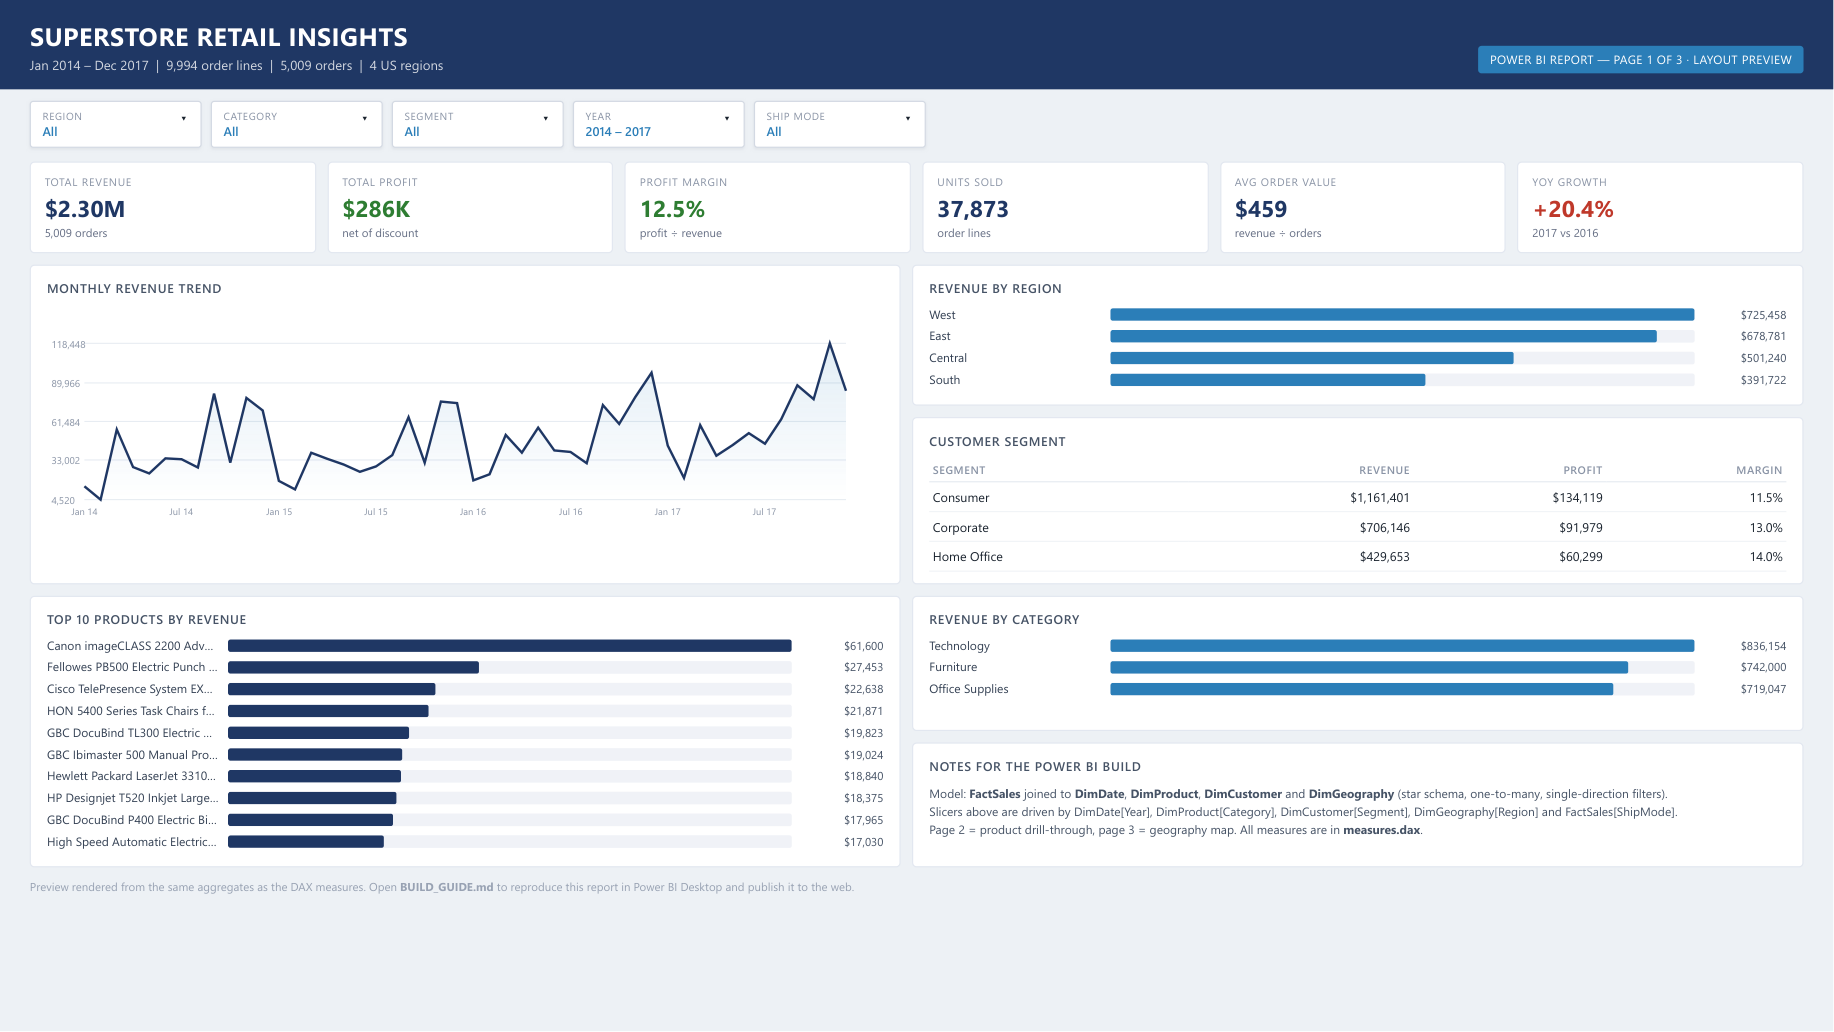

The dashboard page shown, as its layout file describes it:
{"tool":"powerbi","page":{"name":"Overview","canvas":[1280,720],"ordinal":0},"visuals":[{"type":"cardVisual","fields":{"Data":["_Measures.Report Title"]},"box":[8,4,1264,44],"z":0},{"type":"cardVisual","fields":{"Data":["_Measures.Total Revenue"]},"box":[8,52,200,62],"z":0},{"type":"cardVisual","fields":{"Data":["_Measures.Total Profit"]},"box":[220,52,200,62],"z":0},{"type":"cardVisual","fields":{"Data":["_Measures.Profit Margin"]},"box":[432,52,200,62],"z":0},{"type":"cardVisual","fields":{"Data":["_Measures.Units Sold"]},"box":[644,52,200,62],"z":0},{"type":"cardVisual","fields":{"Data":["_Measures.Average Order Value"]},"box":[856,52,200,62],"z":0},{"type":"cardVisual","fields":{"Data":["_Measures.YoY Growth Last Year"]},"box":[1068,52,200,62],"z":0},{"type":"lineChart","fields":{"Category":["DimDate.YearMonth"],"Y":["_Measures.Total Revenue"]},"box":[8,120,620,250],"z":0},{"type":"barChart","fields":{"Category":["DimGeography.Region"],"Y":["_Measures.Total Revenue"]},"box":[636,120,636,250],"z":0},{"type":"barChart","fields":{"Category":["TopProducts.ProductName"],"Y":["_Measures.Top Product Revenue"]},"box":[8,376,620,200],"z":0},{"type":"donutChart","fields":{"Category":["DimProduct.Category"],"Y":["_Measures.Total Revenue"]},"box":[636,376,300,200],"z":0},{"type":"tableEx","fields":{"Values":["DimCustomer.Segment","_Measures.Total Revenue","_Measures.Total Profit","_Measures.Profit Margin"]},"box":[944,376,328,200],"z":0},{"type":"slicer","fields":{"Values":["DimGeography.Region"]},"box":[8,582,248,128],"z":0},{"type":"slicer","fields":{"Values":["DimProduct.Category"]},"box":[260,582,248,128],"z":0},{"type":"slicer","fields":{"Values":["DimCustomer.Segment"]},"box":[512,582,248,128],"z":0},{"type":"slicer","fields":{"Values":["DimDate.Year"]},"box":[764,582,248,128],"z":0},{"type":"slicer","fields":{"Values":["FactSales.ShipMode"]},"box":[1016,582,248,128],"z":0}]}

Visuals, with their boxes in screenshot pixels (x1, y1, x2, y2), scaled from the page's 1280x720 canvas onto the 1834x1032 screenshot:
cardVisual - _Measures.Report Title: left=11, top=6, right=1823, bottom=69
cardVisual - _Measures.Total Revenue: left=11, top=75, right=298, bottom=163
cardVisual - _Measures.Total Profit: left=315, top=75, right=602, bottom=163
cardVisual - _Measures.Profit Margin: left=619, top=75, right=906, bottom=163
cardVisual - _Measures.Units Sold: left=923, top=75, right=1209, bottom=163
cardVisual - _Measures.Average Order Value: left=1226, top=75, right=1513, bottom=163
cardVisual - _Measures.YoY Growth Last Year: left=1530, top=75, right=1817, bottom=163
lineChart - DimDate.YearMonth x _Measures.Total Revenue: left=11, top=172, right=900, bottom=530
barChart - DimGeography.Region x _Measures.Total Revenue: left=911, top=172, right=1823, bottom=530
barChart - TopProducts.ProductName x _Measures.Top Product Revenue: left=11, top=539, right=900, bottom=826
donutChart - DimProduct.Category x _Measures.Total Revenue: left=911, top=539, right=1341, bottom=826
tableEx - DimCustomer.Segment x _Measures.Total Revenue: left=1353, top=539, right=1823, bottom=826
slicer - DimGeography.Region: left=11, top=834, right=367, bottom=1018
slicer - DimProduct.Category: left=373, top=834, right=728, bottom=1018
slicer - DimCustomer.Segment: left=734, top=834, right=1089, bottom=1018
slicer - DimDate.Year: left=1095, top=834, right=1450, bottom=1018
slicer - FactSales.ShipMode: left=1456, top=834, right=1811, bottom=1018
